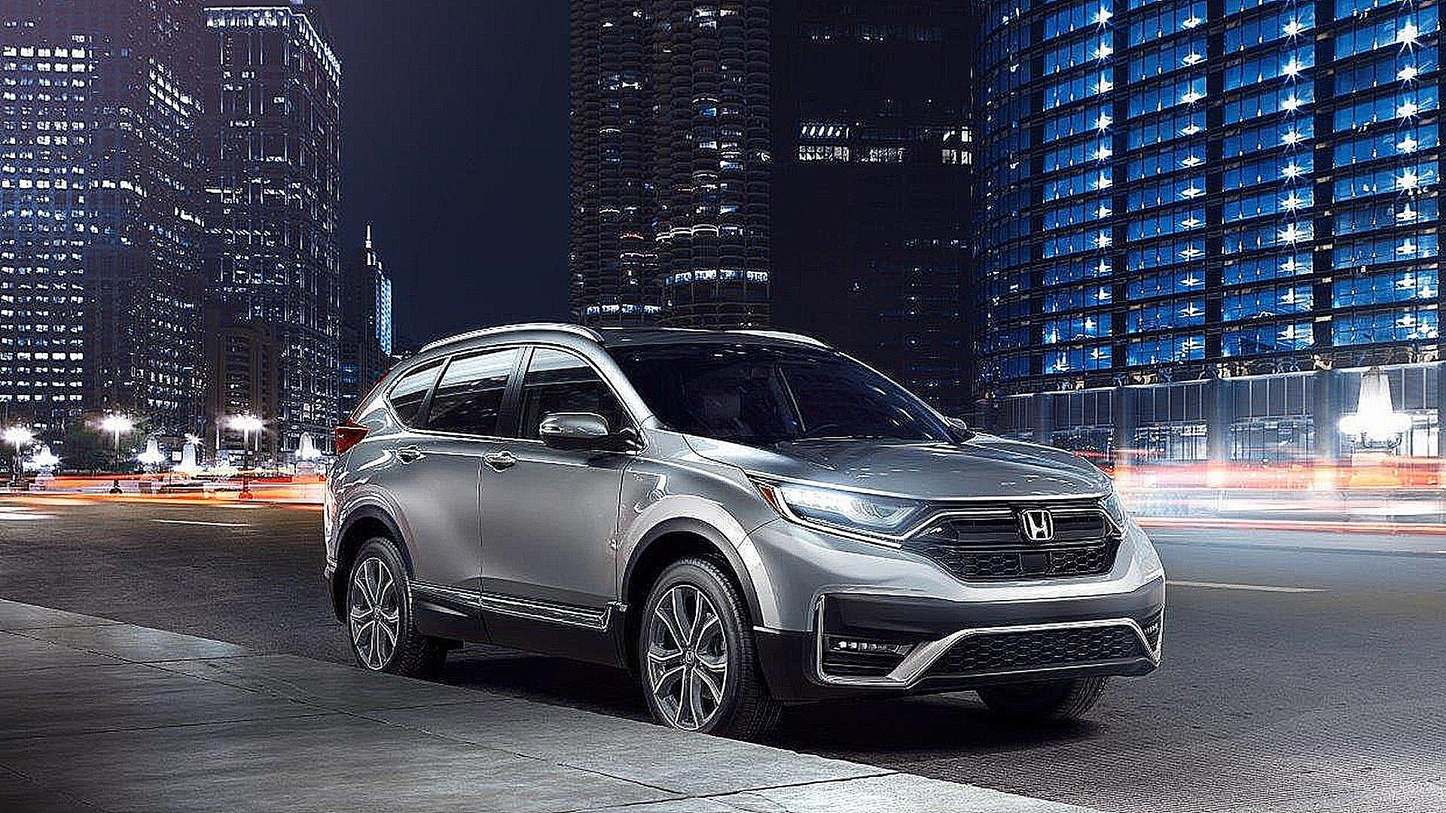Car hood: (682, 428, 1119, 505)
Driver-s door - -F-R-: (468, 318, 640, 647)
Fender - -F-R-: (604, 420, 782, 610)
Fender - -R-R-: (338, 360, 418, 546)
Front bumper: (727, 517, 1174, 701)
Headlight - -L-: (1101, 488, 1129, 531)
Headlight - -R-: (746, 467, 942, 547)
Passenger-s door - -R-R-: (388, 314, 520, 649)
Rear bumper: (315, 493, 353, 631)
Rear light - -R-: (331, 418, 376, 457)
Side bumper - -R-: (409, 572, 637, 685)
Side mirror - -R-: (536, 409, 638, 464)
